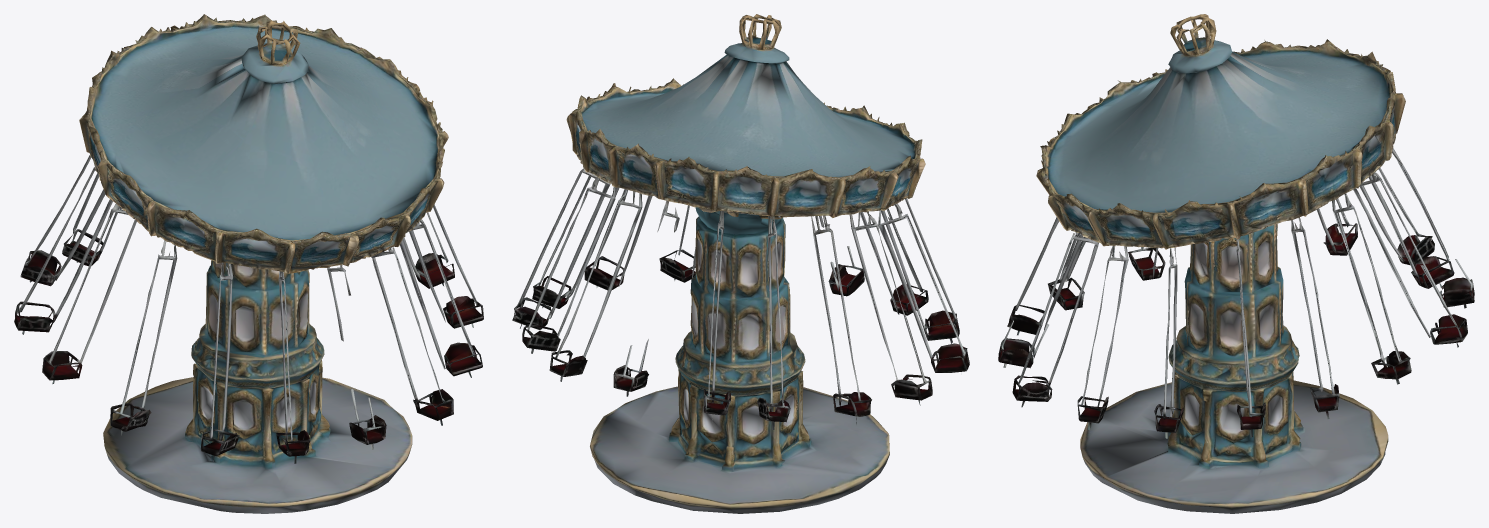
File: pier_wave_swinger.glb
The picture shows the model from 3 angles, left to right: view 1: azimuth 30°, elevation 25°; view 2: azimuth 150°, elevation 25°; view 3: azimuth 270°, elevation 25°; orthographic projection. The views are drawn at different scales.
Visible parts, largest first — view 1: tripo_node_8f66163f-2d70-4ab4-8abc-d63586dee2f3; view 2: tripo_node_8f66163f-2d70-4ab4-8abc-d63586dee2f3; view 3: tripo_node_8f66163f-2d70-4ab4-8abc-d63586dee2f3.
Part boxes in pixels (box(x1,y1,x2,y2)): tripo_node_8f66163f-2d70-4ab4-8abc-d63586dee2f3: box(14, 14, 483, 513); tripo_node_8f66163f-2d70-4ab4-8abc-d63586dee2f3: box(512, 14, 969, 513); tripo_node_8f66163f-2d70-4ab4-8abc-d63586dee2f3: box(998, 14, 1474, 513).
Bounding box in the file's own units: 0.9632 × 0.9996 × 0.9911.
1 material, 1 textured.
